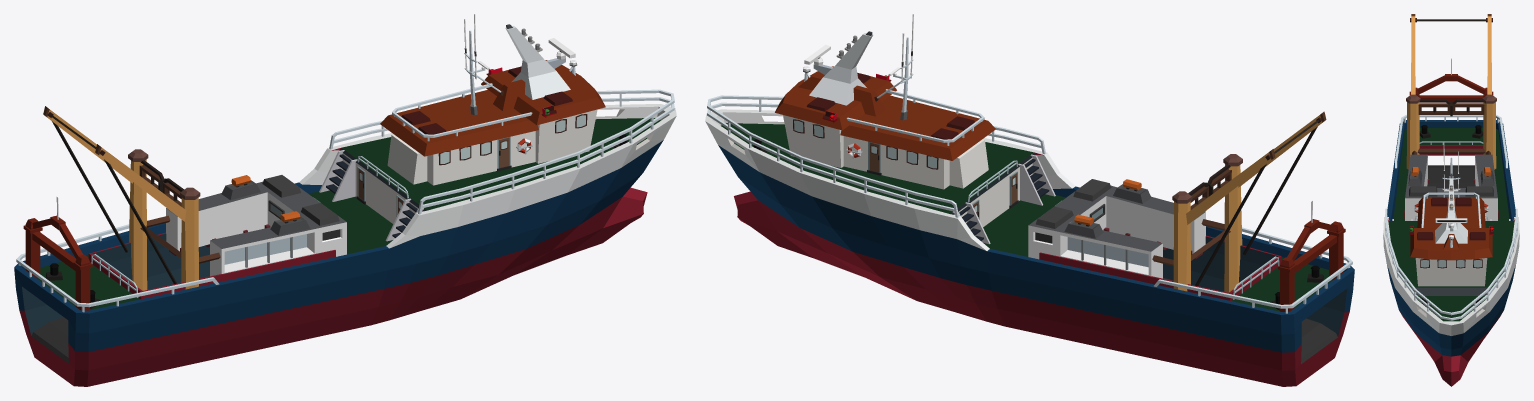
Rendered from trawler.glb.
The picture shows the model from 3 angles, left to right: view 1: azimuth 30°, elevation 25°; view 2: azimuth 150°, elevation 25°; view 3: azimuth 270°, elevation 25°; orthographic projection. The views are drawn at different scales.
Visible parts, largest first — view 1: Trawler_Colour Palette_0; view 2: Trawler_Colour Palette_0; view 3: Trawler_Colour Palette_0.
Part boxes in pixels (x1,y1,x2,y2): Trawler_Colour Palette_0: (14,14,676,386); Trawler_Colour Palette_0: (705,14,1354,386); Trawler_Colour Palette_0: (1383,14,1519,386).
Bounding box in the file's own units: 3530 × 1450 × 899.
Materials: 1 (1 with a texture image).
